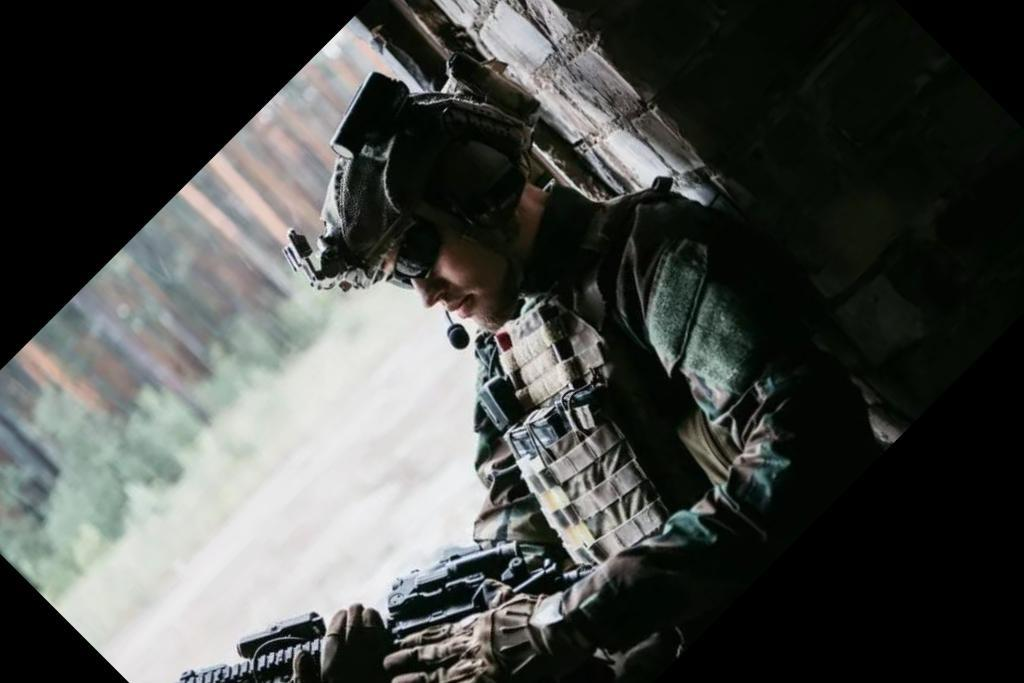larga: (177, 542, 581, 683)
